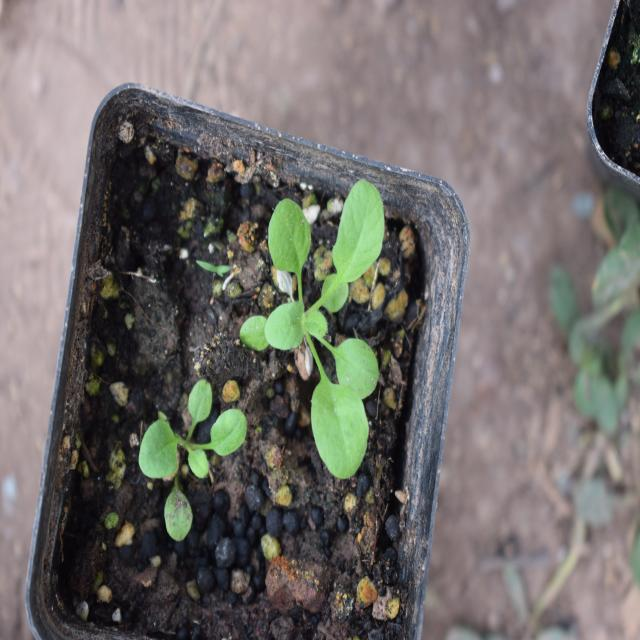Shepherd_Purse: (256, 188, 410, 486), (109, 361, 268, 554)
